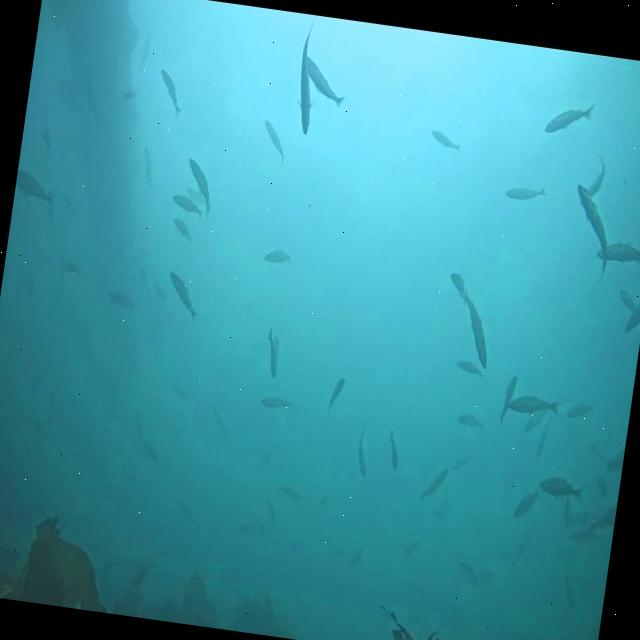fish: (564, 184, 618, 283), (289, 18, 326, 138), (453, 290, 498, 370), (295, 56, 350, 110), (181, 156, 219, 218), (543, 97, 595, 142), (162, 268, 203, 324), (14, 168, 59, 208), (155, 64, 187, 118), (507, 391, 560, 421), (258, 119, 290, 168), (597, 239, 640, 275), (538, 472, 586, 503), (504, 178, 549, 207), (512, 481, 540, 526), (420, 464, 447, 508), (262, 326, 284, 378), (588, 500, 618, 538), (498, 374, 518, 429), (171, 191, 208, 219), (524, 399, 552, 436), (353, 428, 373, 478), (428, 127, 464, 154), (106, 286, 138, 316), (564, 504, 599, 531), (325, 375, 344, 423), (446, 270, 472, 304), (384, 428, 403, 472), (622, 294, 640, 339), (617, 285, 640, 319), (566, 398, 596, 424), (259, 392, 296, 413), (263, 244, 294, 267), (185, 184, 213, 208), (454, 358, 486, 379), (456, 410, 486, 432), (170, 214, 193, 240)
